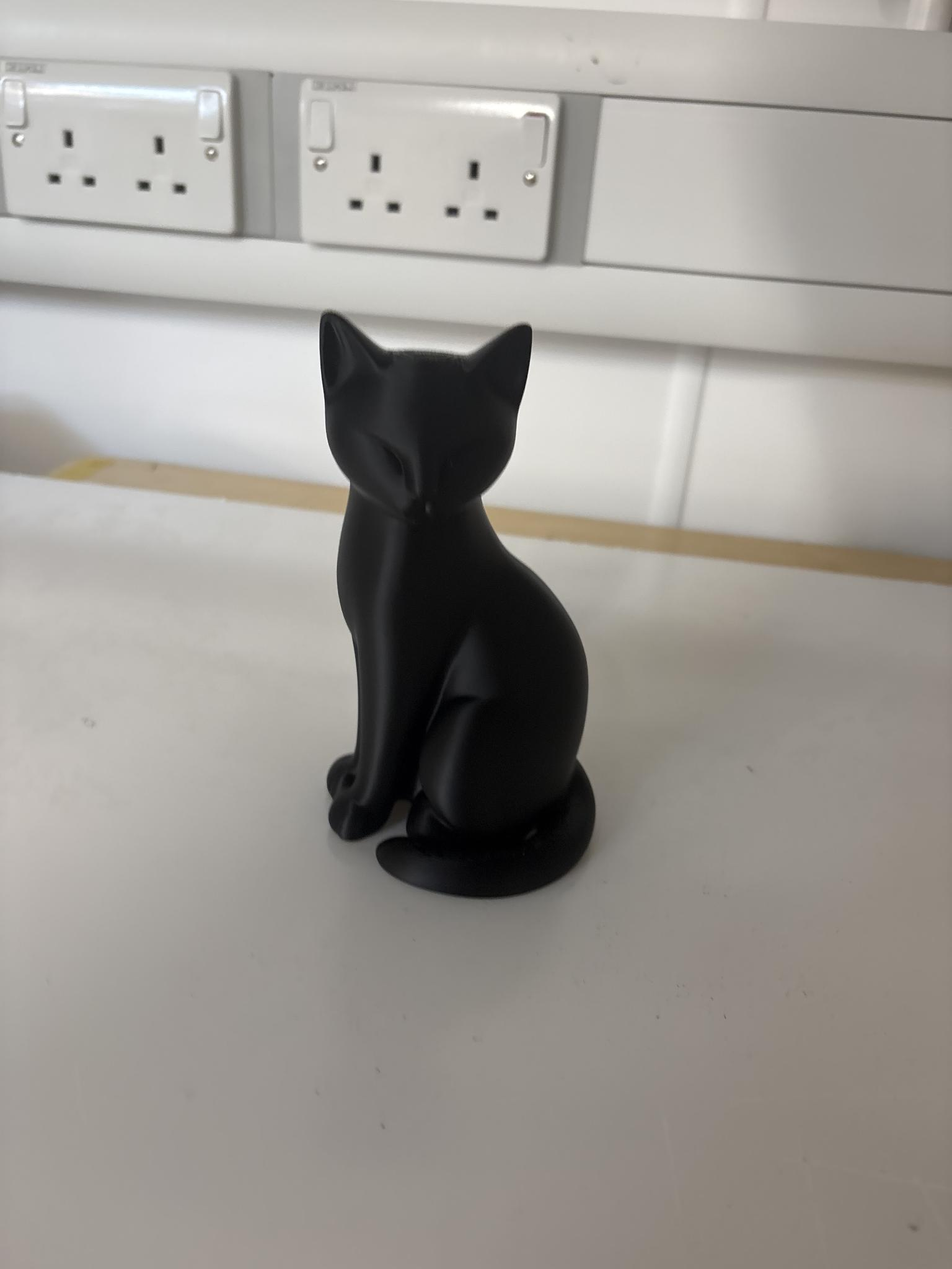cat: (321, 314, 594, 896)
